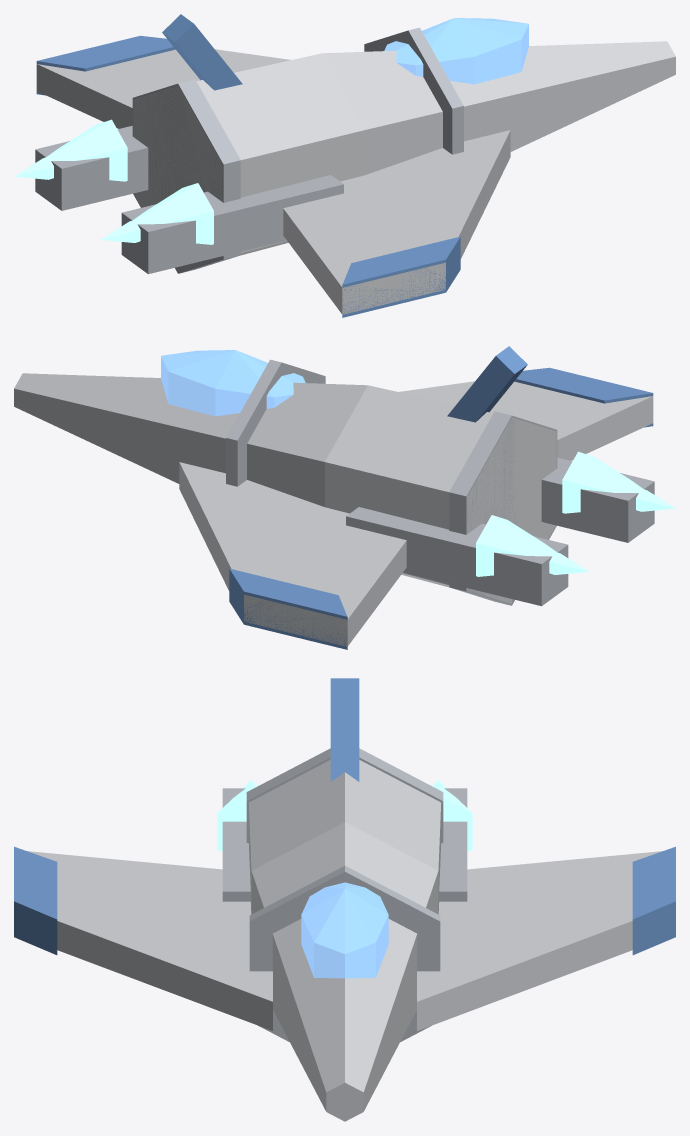
File: ship.glb
3 renders of one model, top to bottom at view 1: azimuth 30°, elevation 25°; view 2: azimuth 150°, elevation 25°; view 3: azimuth 270°, elevation 25°, orthographic. The views are drawn at different scales.
Parts seen in each view (by area): view 1: Hull, Canopy, GlowEngine; view 2: Hull, Canopy, GlowEngine; view 3: Hull, Canopy, GlowEngine.
Boxes of the visible parts, left/top/right/bottom form: Hull: left=35, top=14, right=675, bottom=317; Canopy: left=384, top=18, right=528, bottom=84; GlowEngine: left=14, top=119, right=213, bottom=244; Hull: left=14, top=346, right=654, bottom=649; Canopy: left=161, top=350, right=305, bottom=416; GlowEngine: left=476, top=451, right=675, bottom=576; Hull: left=14, top=678, right=675, bottom=1121; Canopy: left=301, top=882, right=388, bottom=978; GlowEngine: left=217, top=780, right=472, bottom=851.
Size of the model in its own units: 1.06 by 0.4195 by 0.92.
